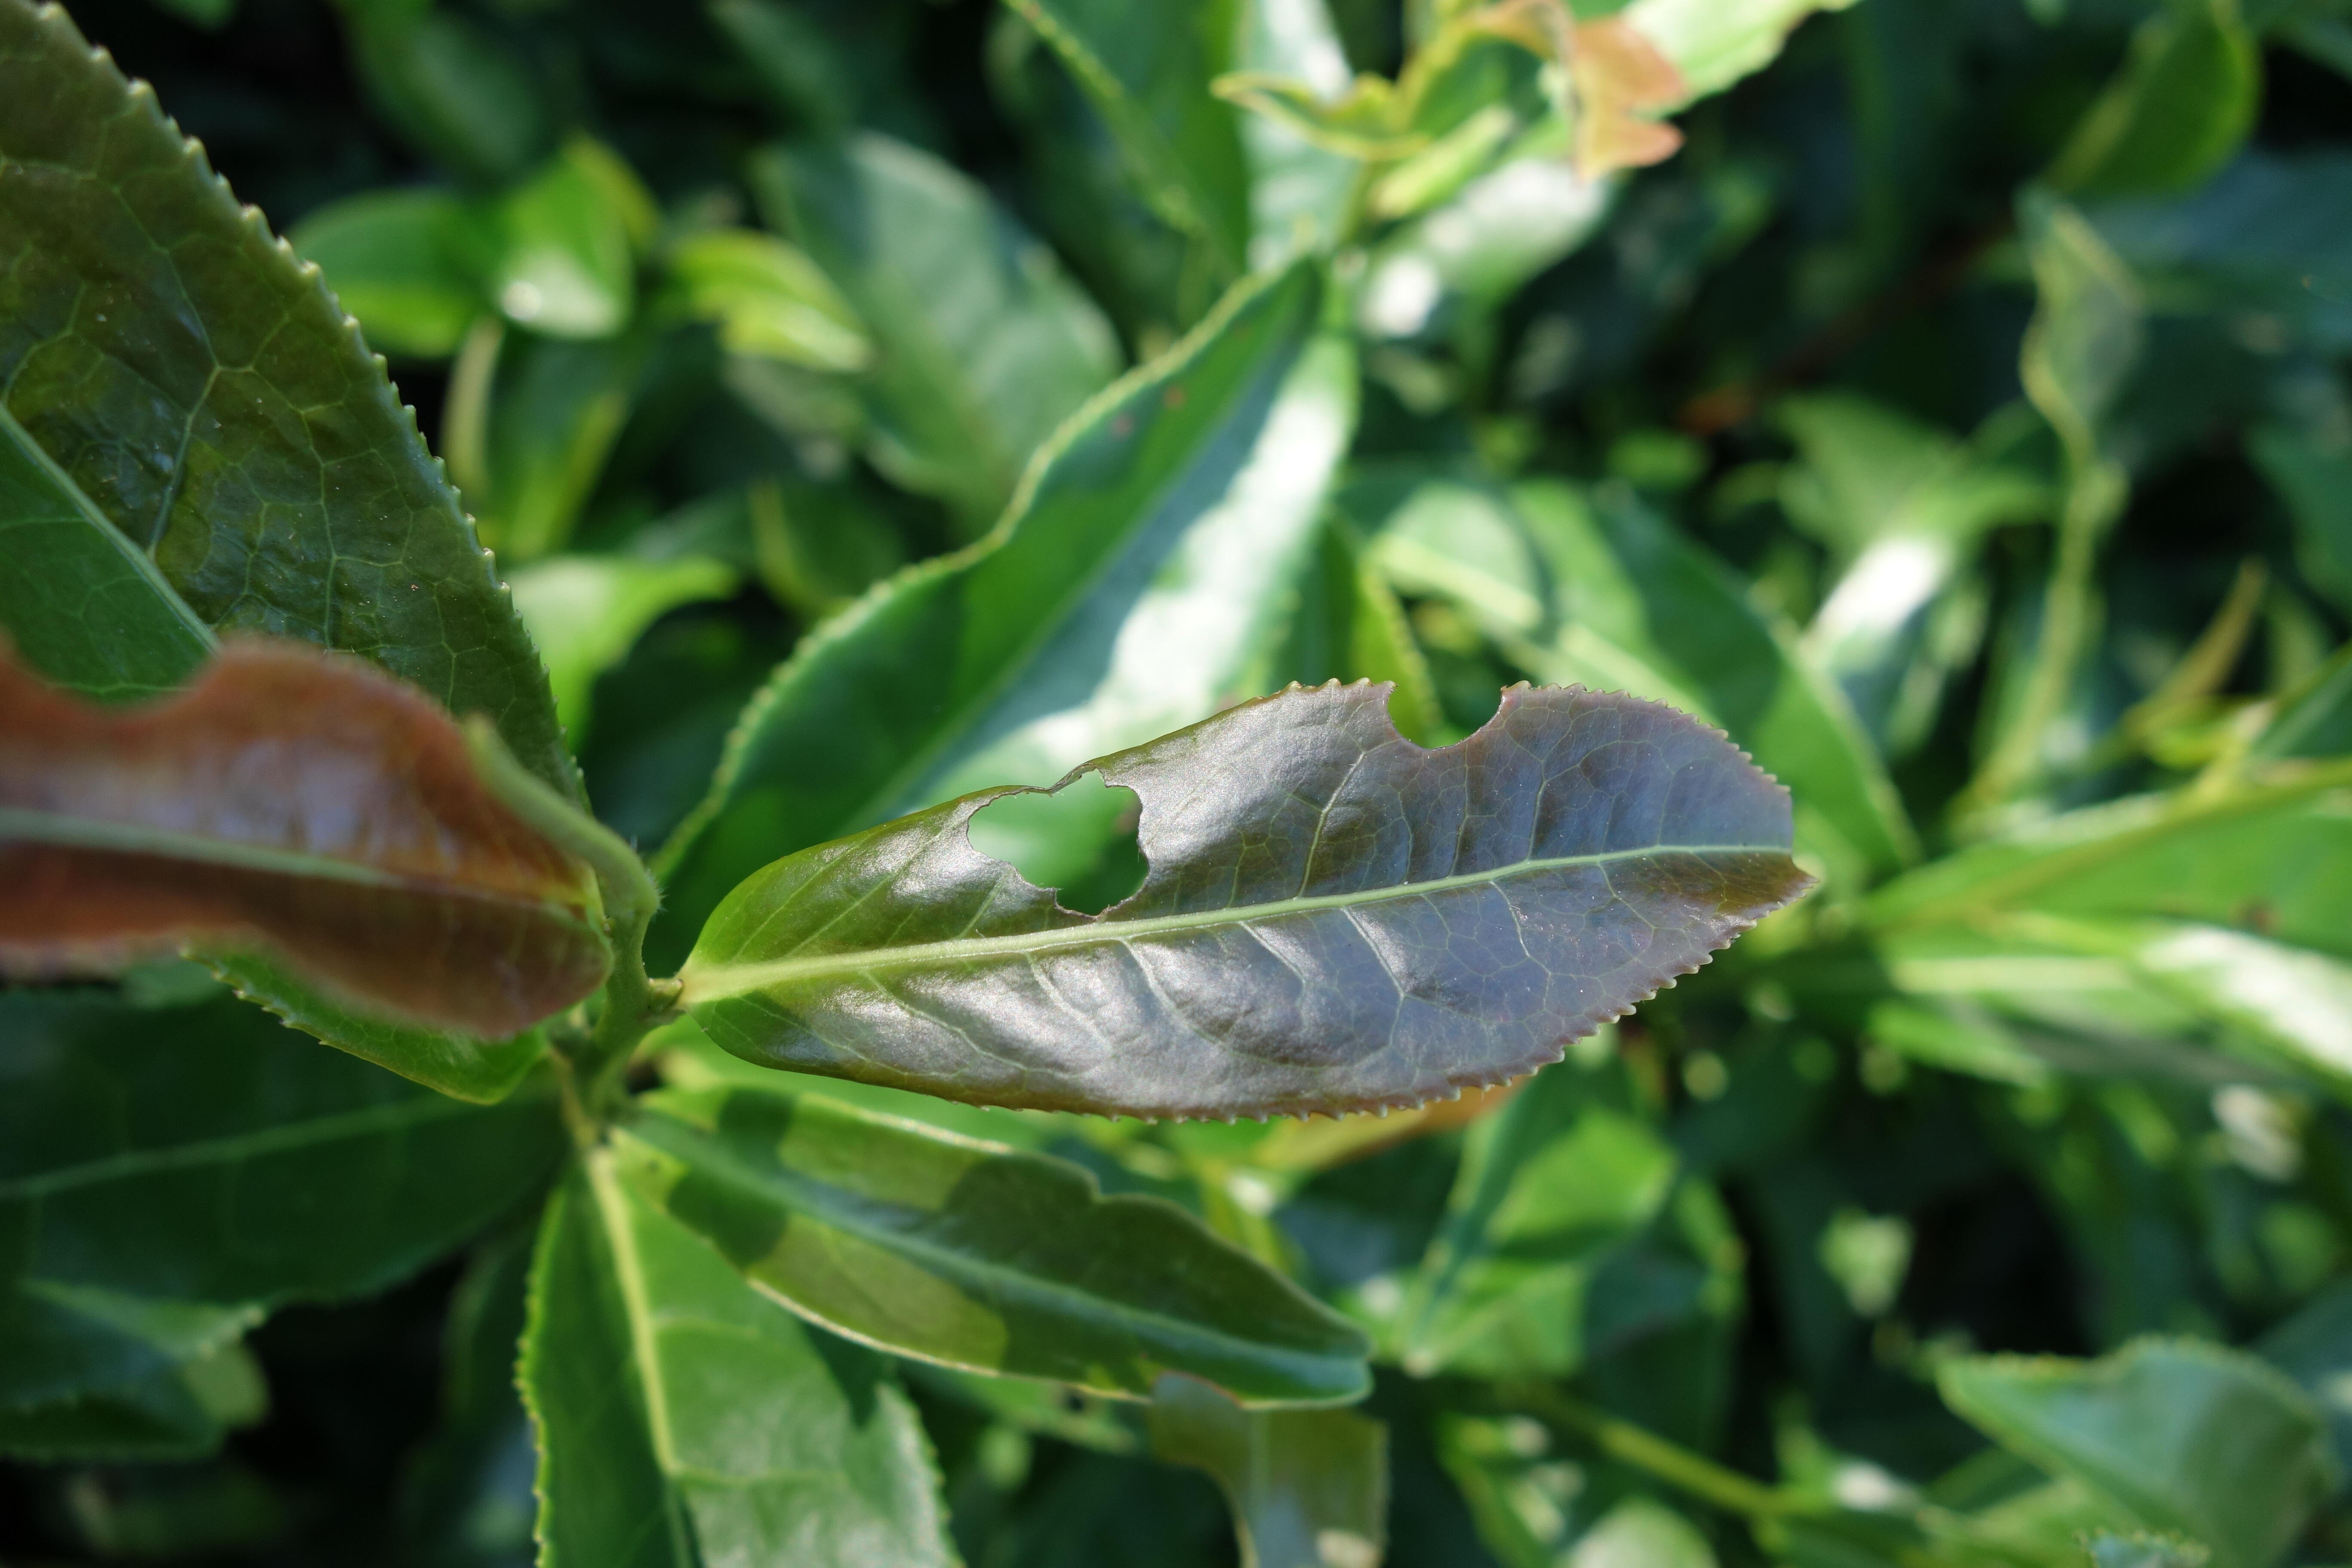chihuo_high: (677, 681, 1823, 1127)
chihuo_low: (614, 1081, 1379, 1416)
